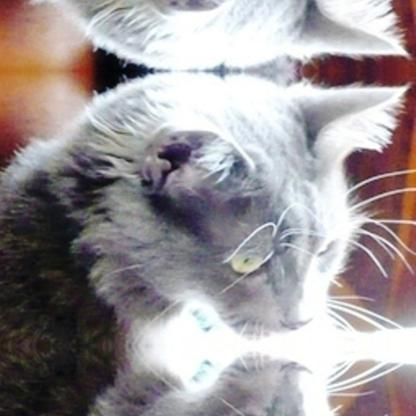Cat: (0, 70, 415, 345), (0, 0, 415, 71), (0, 347, 415, 415)
